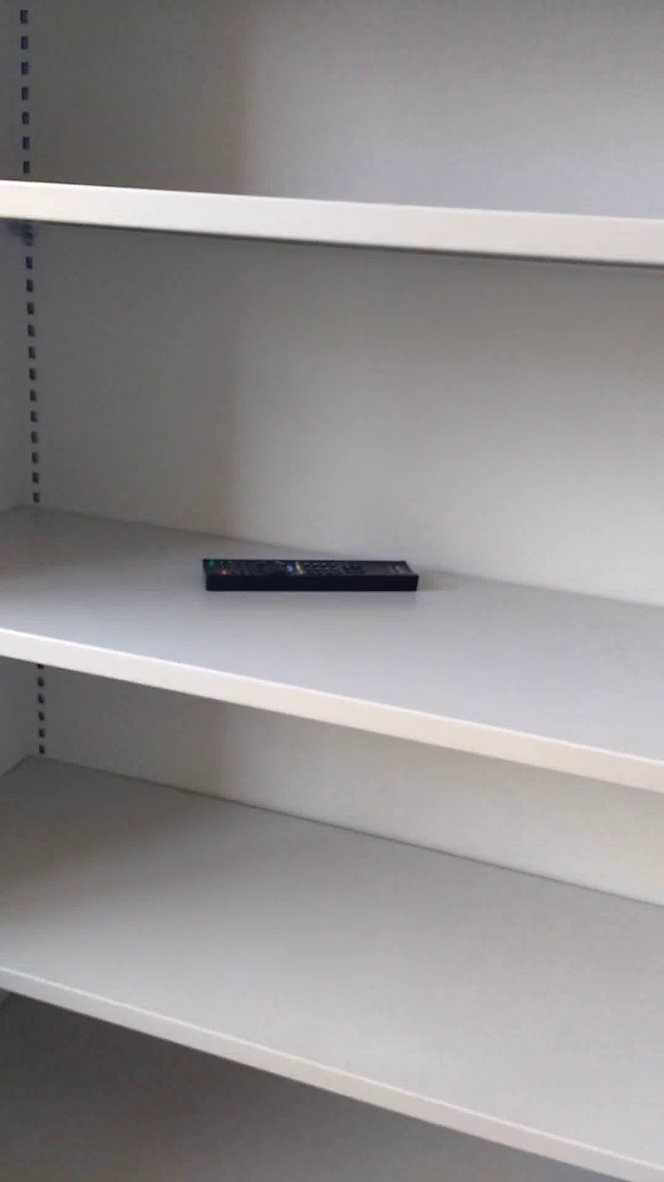remote: (193, 546, 432, 612)
